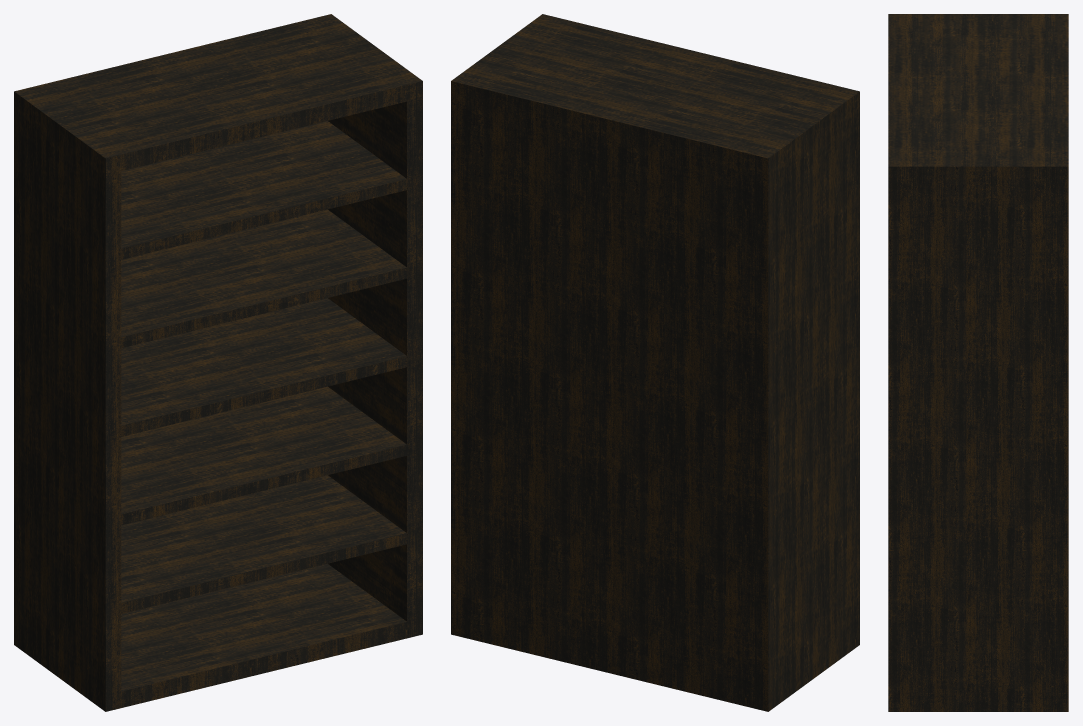
File: shelf.glb
The picture shows the model from 3 angles, left to right: view 1: azimuth 30°, elevation 25°; view 2: azimuth 150°, elevation 25°; view 3: azimuth 270°, elevation 25°; orthographic projection.
Visible parts, largest first — view 1: Cube; view 2: Cube; view 3: Cube.
Boxes of the visible parts, left/top/right/bottom form: Cube: left=14, top=14, right=422, bottom=711; Cube: left=451, top=14, right=859, bottom=711; Cube: left=888, top=14, right=1068, bottom=711.
Bounding box in the file's own units: 3 × 5 × 1.5.
1 material, 1 textured.
